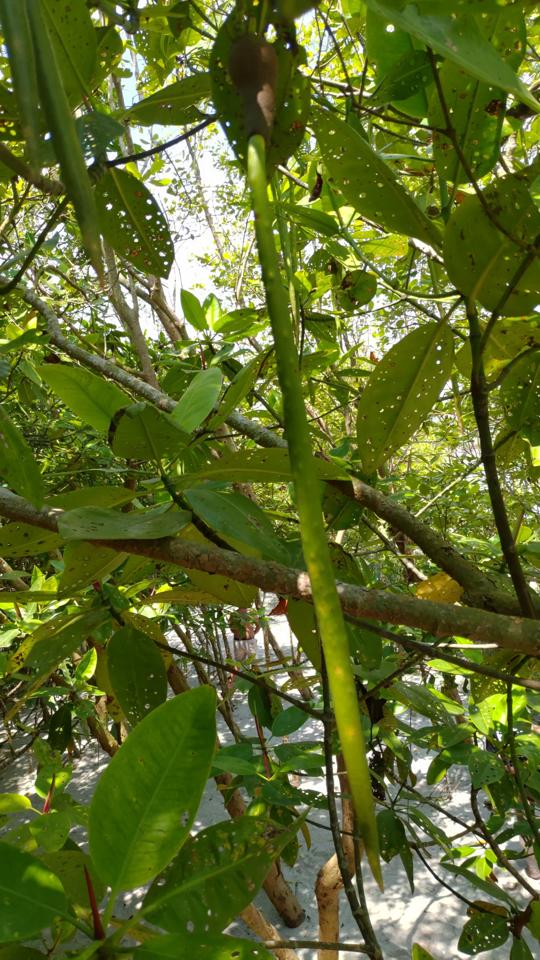mentah: (198, 14, 409, 906)
